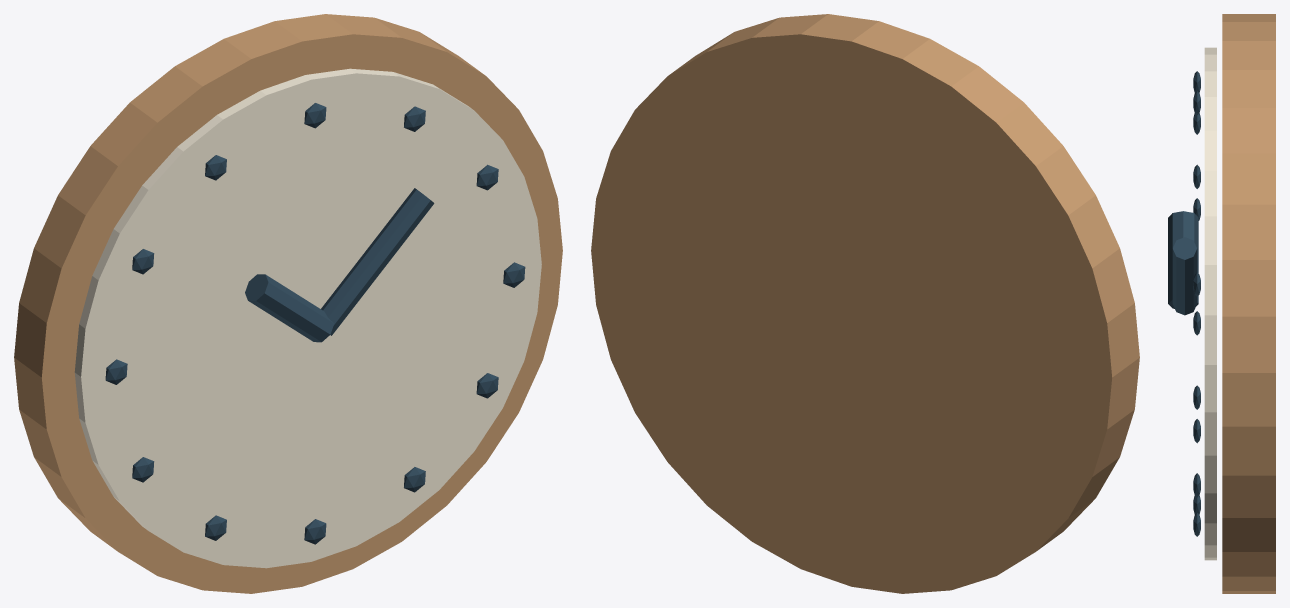
File: wall_clock.glb
The picture shows the model from 3 angles, left to right: view 1: azimuth 30°, elevation 25°; view 2: azimuth 150°, elevation 25°; view 3: azimuth 270°, elevation 25°; orthographic projection. The views are drawn at different scales.
Parts seen in each view (by area): view 1: wall_clock_Mesh; view 2: wall_clock_Mesh; view 3: wall_clock_Mesh.
Boxes of the visible parts, x1=… form: wall_clock_Mesh: x1=14, y1=14, x2=562, y2=593; wall_clock_Mesh: x1=591, y1=14, x2=1139, y2=593; wall_clock_Mesh: x1=1168, y1=14, x2=1275, y2=593.
Size of the model in its own units: 0.38 by 0.38 by 0.0705.
